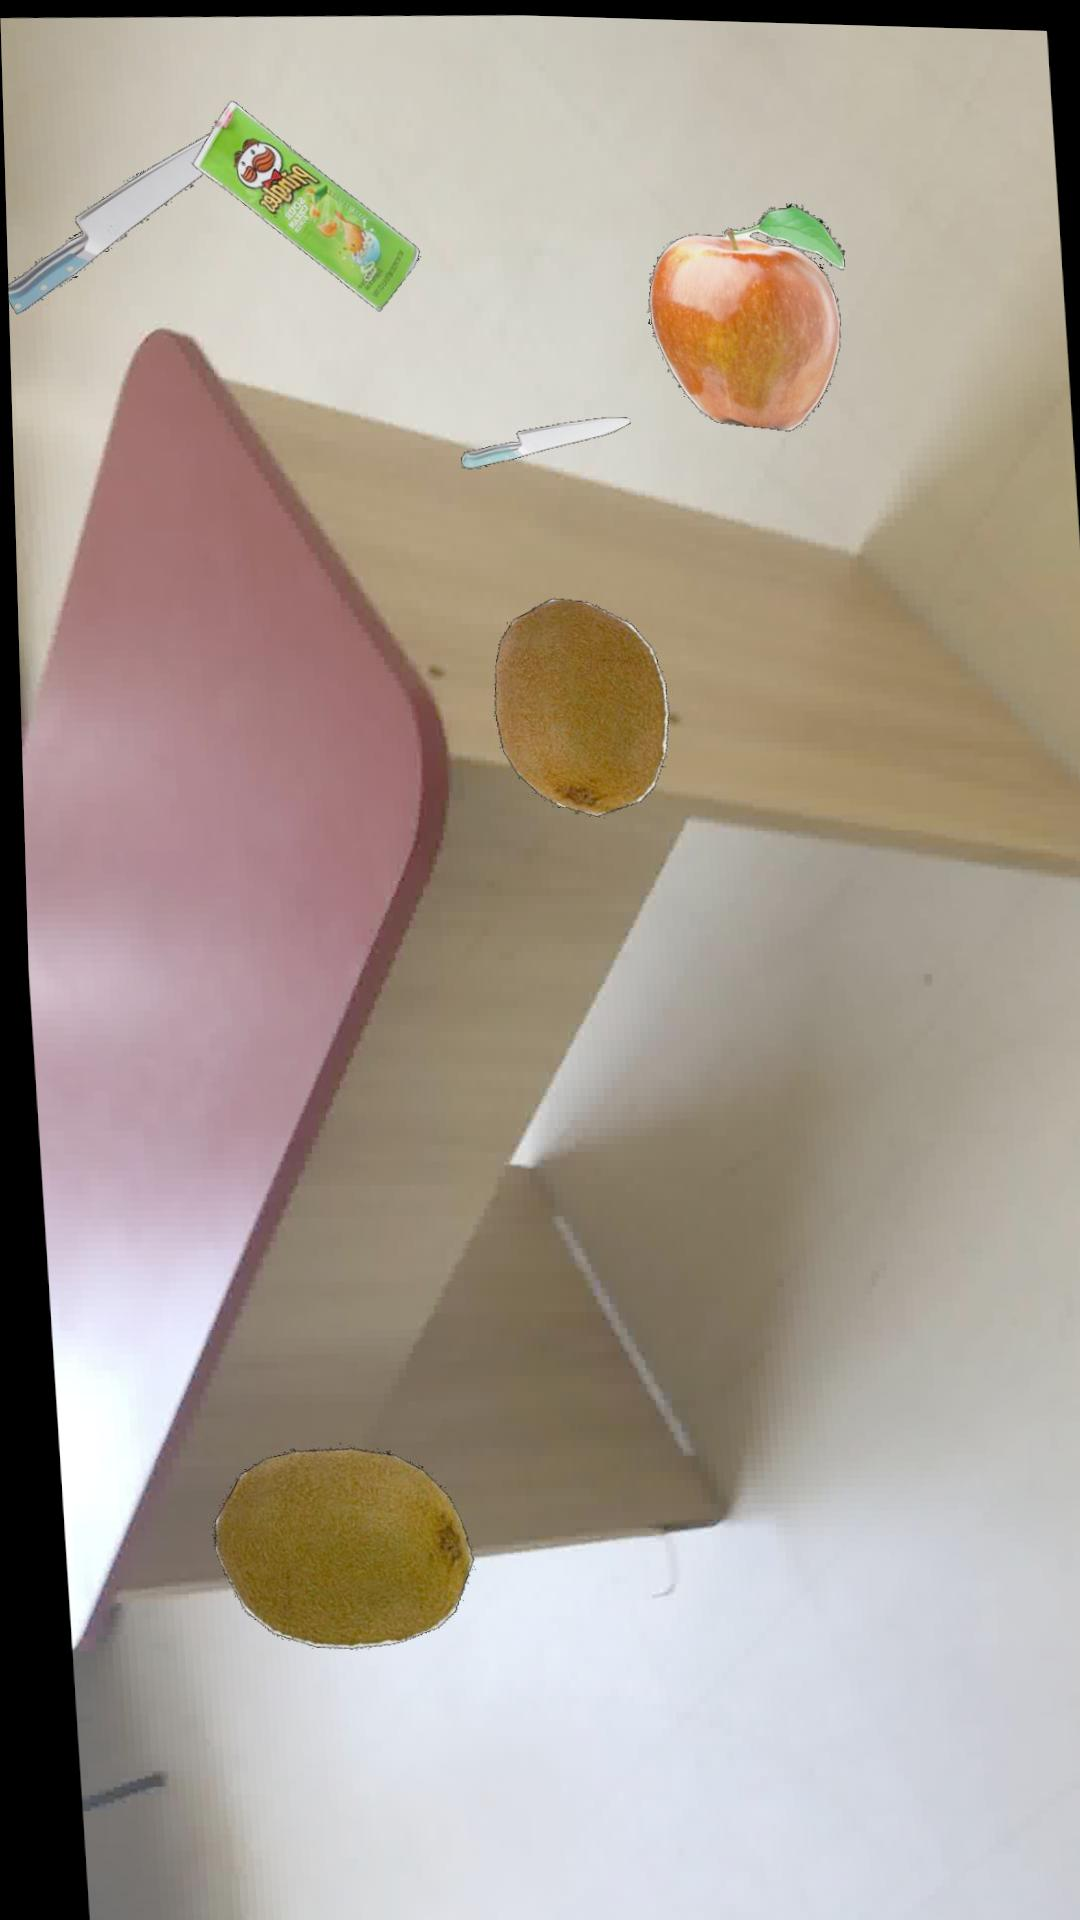apple: (649, 199, 845, 429)
kiwi: (204, 1447, 465, 1650), (492, 596, 667, 815)
knife: (7, 133, 211, 316), (460, 415, 630, 468)
pringles: (193, 102, 419, 311)
